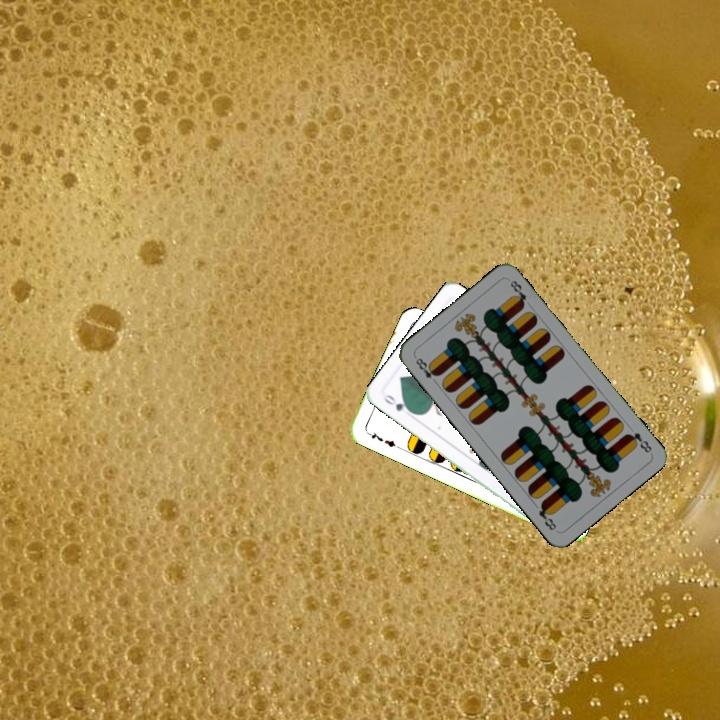E7: (363, 427, 401, 450)
E8: (411, 354, 441, 387), (622, 428, 654, 456)
GO: (380, 390, 416, 416)
